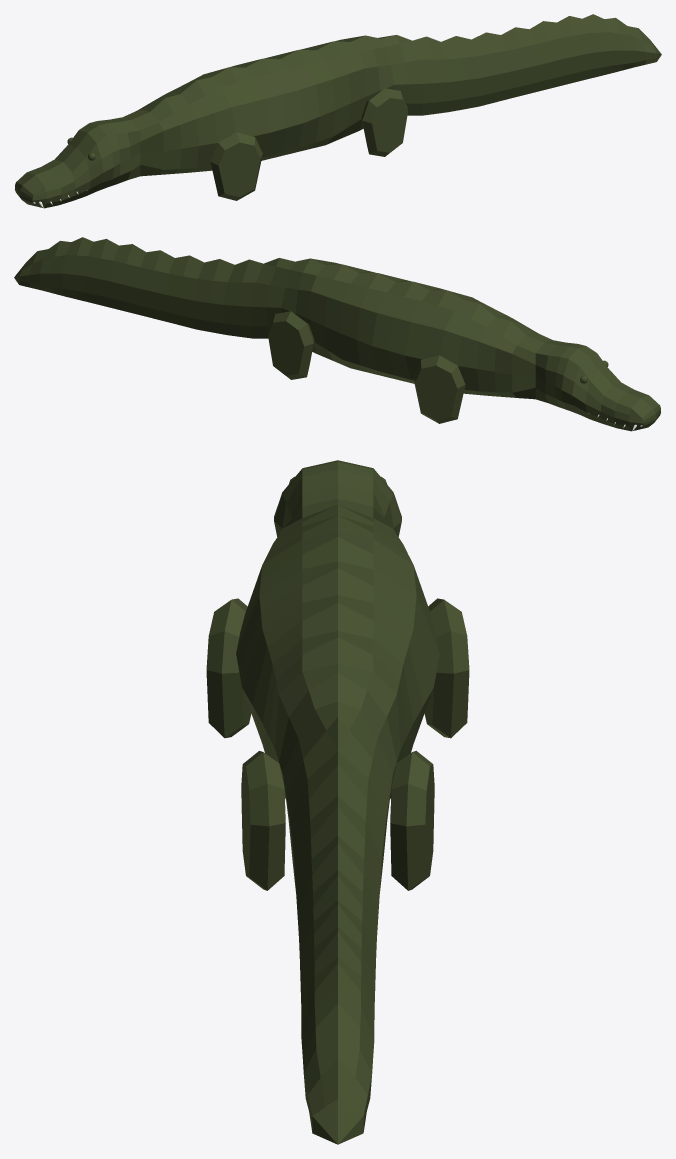
File: Low-poly_Crocodile.glb
The picture shows the model from 3 angles, top to bottom: view 1: azimuth 30°, elevation 25°; view 2: azimuth 150°, elevation 25°; view 3: azimuth 270°, elevation 25°; orthographic projection. The views are drawn at different scales.
Parts seen in each view (by area): view 1: Plane_0, Circle_0, Circle.001_0; view 2: Plane_0, Circle.003_0, Circle.002_0; view 3: Plane_0, Circle.002_0, Circle.001_0, Circle_0, Circle.003_0.
Part boxes in pixels (bbox=[...]): Plane_0: bbox=[15, 14, 661, 208]; Circle_0: bbox=[210, 132, 262, 200]; Circle.001_0: bbox=[361, 88, 407, 156]; Plane_0: bbox=[14, 237, 660, 431]; Circle.003_0: bbox=[413, 355, 465, 423]; Circle.002_0: bbox=[268, 311, 314, 379]; Plane_0: bbox=[236, 460, 439, 1144]; Circle.002_0: bbox=[390, 750, 434, 890]; Circle.001_0: bbox=[241, 751, 285, 890]; Circle_0: bbox=[206, 598, 251, 738]; Circle.003_0: bbox=[424, 598, 469, 738].
Bounding box in the file's own units: 8.37 × 1.37 × 1.48.
